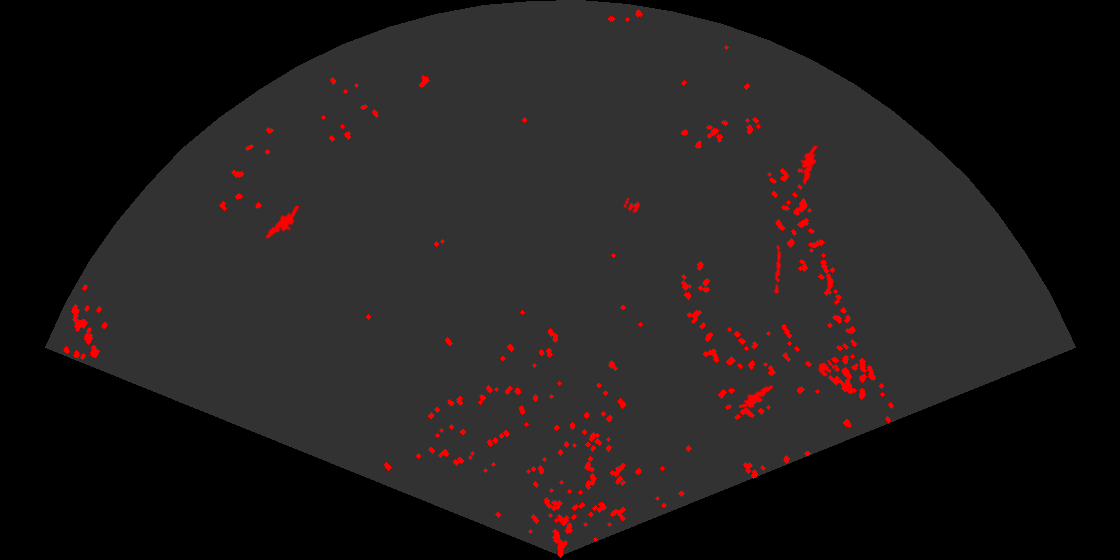ball: (816, 358, 837, 378), (622, 196, 642, 215)
chain: (772, 243, 783, 294)
frogman: (262, 206, 299, 247), (739, 384, 776, 410), (799, 146, 820, 186)
